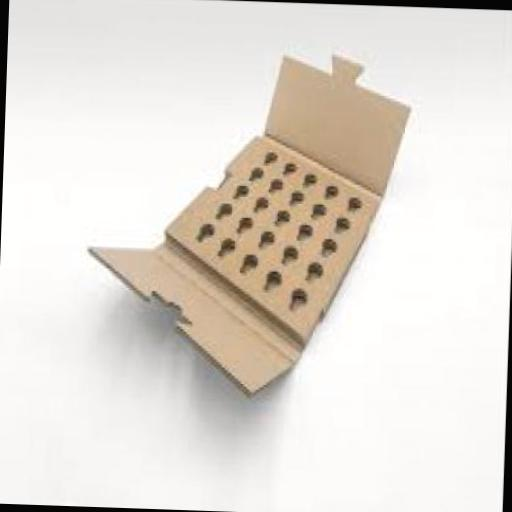cardboard: (86, 39, 413, 396)
